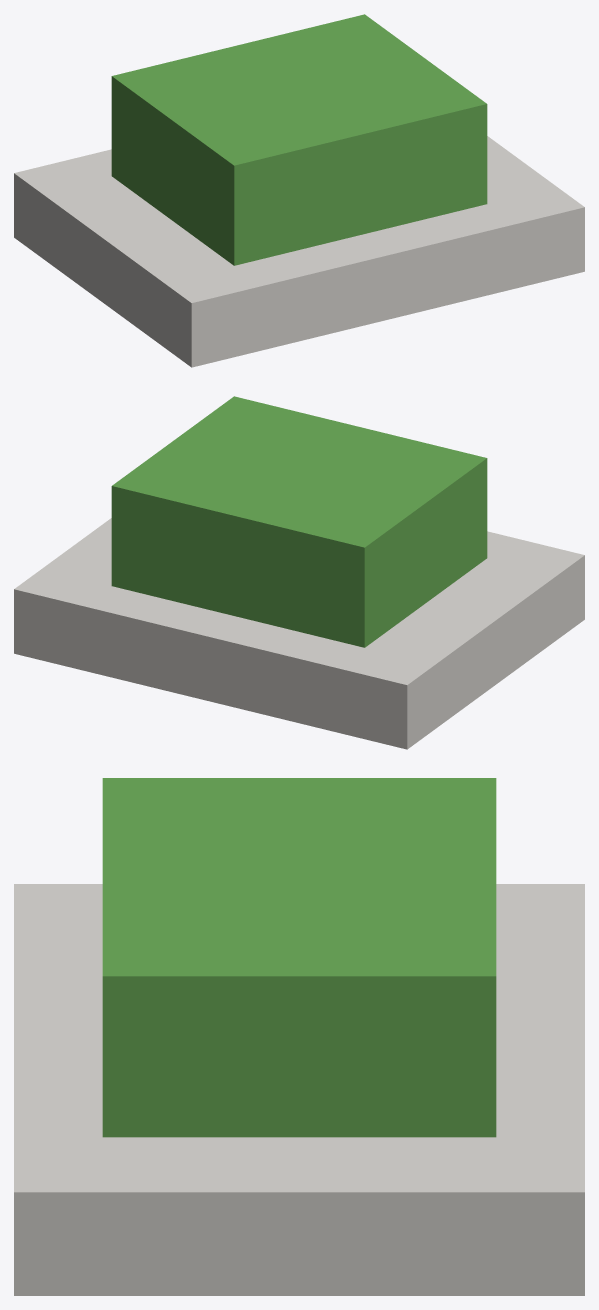
Rendered from indoor_garden-lv1.glb.
The picture shows the model from 3 angles, top to bottom: view 1: azimuth 30°, elevation 25°; view 2: azimuth 150°, elevation 25°; view 3: azimuth 270°, elevation 25°; orthographic projection. The views are drawn at different scales.
Parts seen in each view (by area): view 1: Level1, Base; view 2: Level1, Base; view 3: Level1, Base.
Part boxes in pixels (left/top/right/bottom): Level1: left=111, top=14, right=487, bottom=265; Base: left=14, top=136, right=584, bottom=367; Level1: left=111, top=396, right=487, bottom=647; Base: left=14, top=518, right=584, bottom=749; Level1: left=102, top=778, right=496, bottom=1137; Base: left=14, top=884, right=584, bottom=1295.
Bounding box in the file's own units: 1.15 × 0.46 × 0.9.
